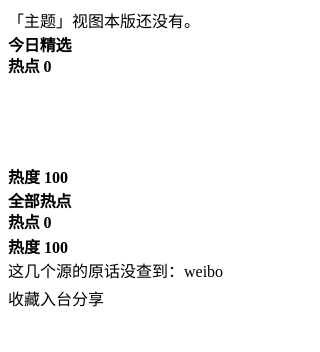
PLAZA-04 卡片三动作 › 「还没接」照实说，NEVER 报成功
Click the button with test id "action-favorite": [24, 298] box [8, 282, 40, 314]
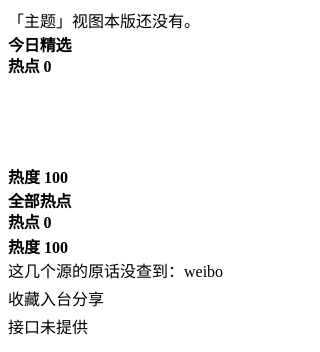
Check: the message with test id "action-outcome" reads "接口未提供", box [8, 319, 88, 336]
